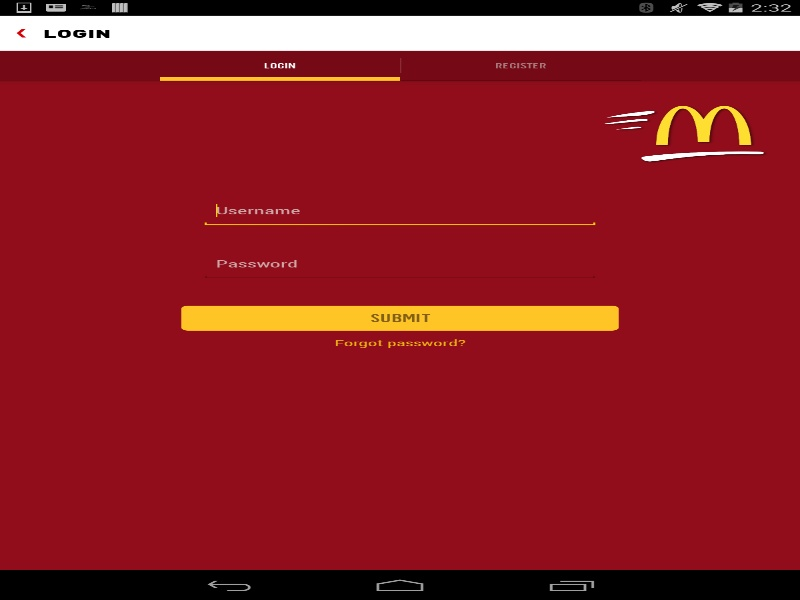Button: (181, 305, 618, 330)
Input: (200, 199, 600, 227), (200, 252, 600, 280)
